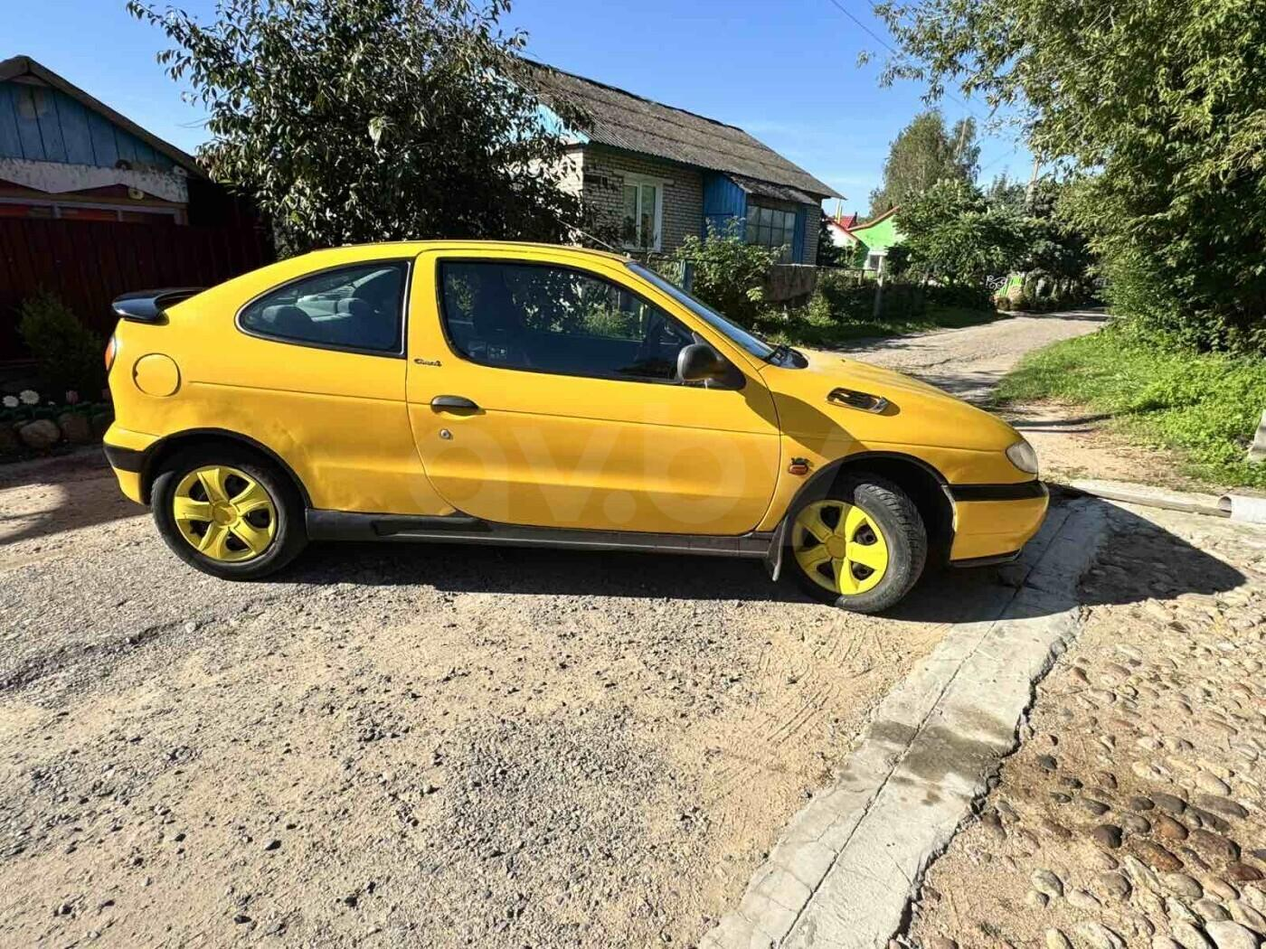Megane_1995-1999: (85, 225, 1072, 630)
